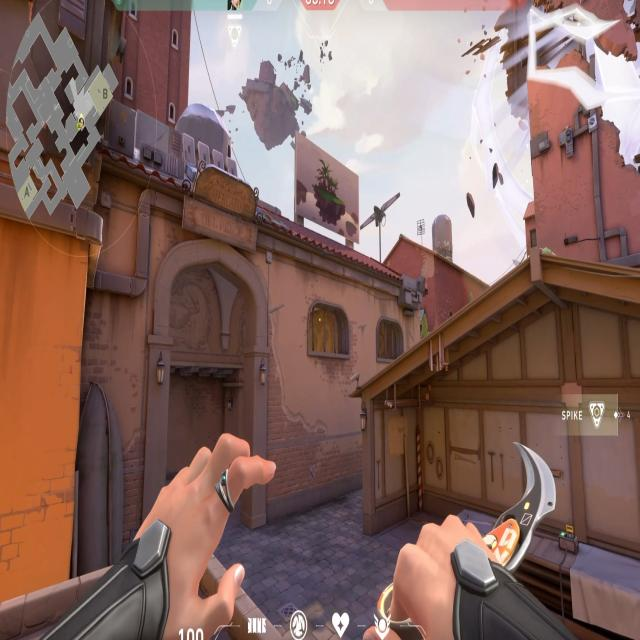B_Garage_Left: (359, 395, 465, 546)
Throwables: (300, 290, 354, 371), (368, 308, 409, 372)
